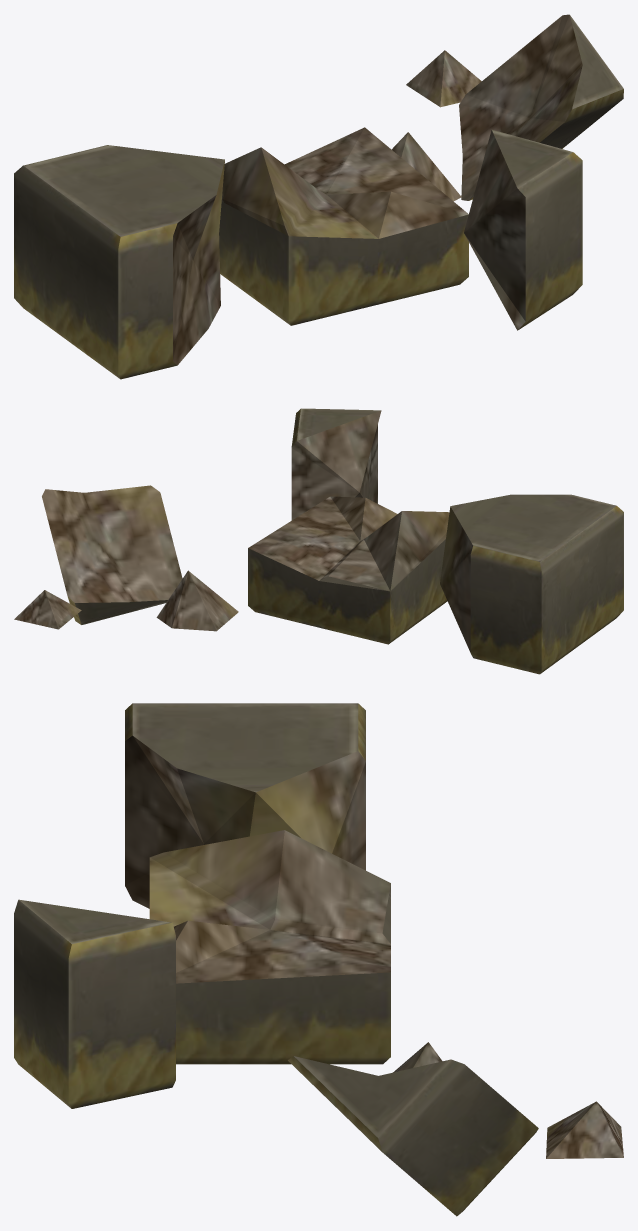
The model's file is Battle05_Brick_01.FBX.
3 views of the same model, one above another, from view 1: azimuth 30°, elevation 25°; view 2: azimuth 150°, elevation 25°; view 3: azimuth 270°, elevation 25° (orthographic). The views are drawn at different scales.
Visible parts, largest first — view 1: Battle05_Brick_01; view 2: Battle05_Brick_01; view 3: Battle05_Brick_01.
Boxes of the visible parts, bbox=[...] form: Battle05_Brick_01: bbox=[14, 14, 623, 379]; Battle05_Brick_01: bbox=[14, 408, 623, 674]; Battle05_Brick_01: bbox=[14, 703, 623, 1216].
Size of the model in its own units: 12.98 by 3.57 by 9.61.
